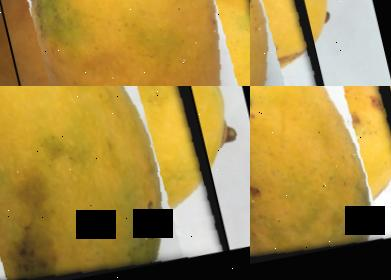PartiallyRipe: (0, 86, 228, 280)
Ripe: (250, 86, 391, 280), (0, 0, 250, 86), (250, 0, 328, 86)
